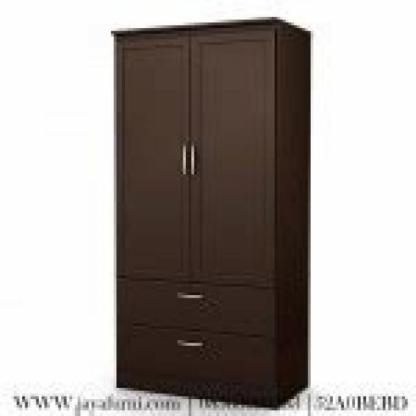Closet: (106, 16, 318, 411)
